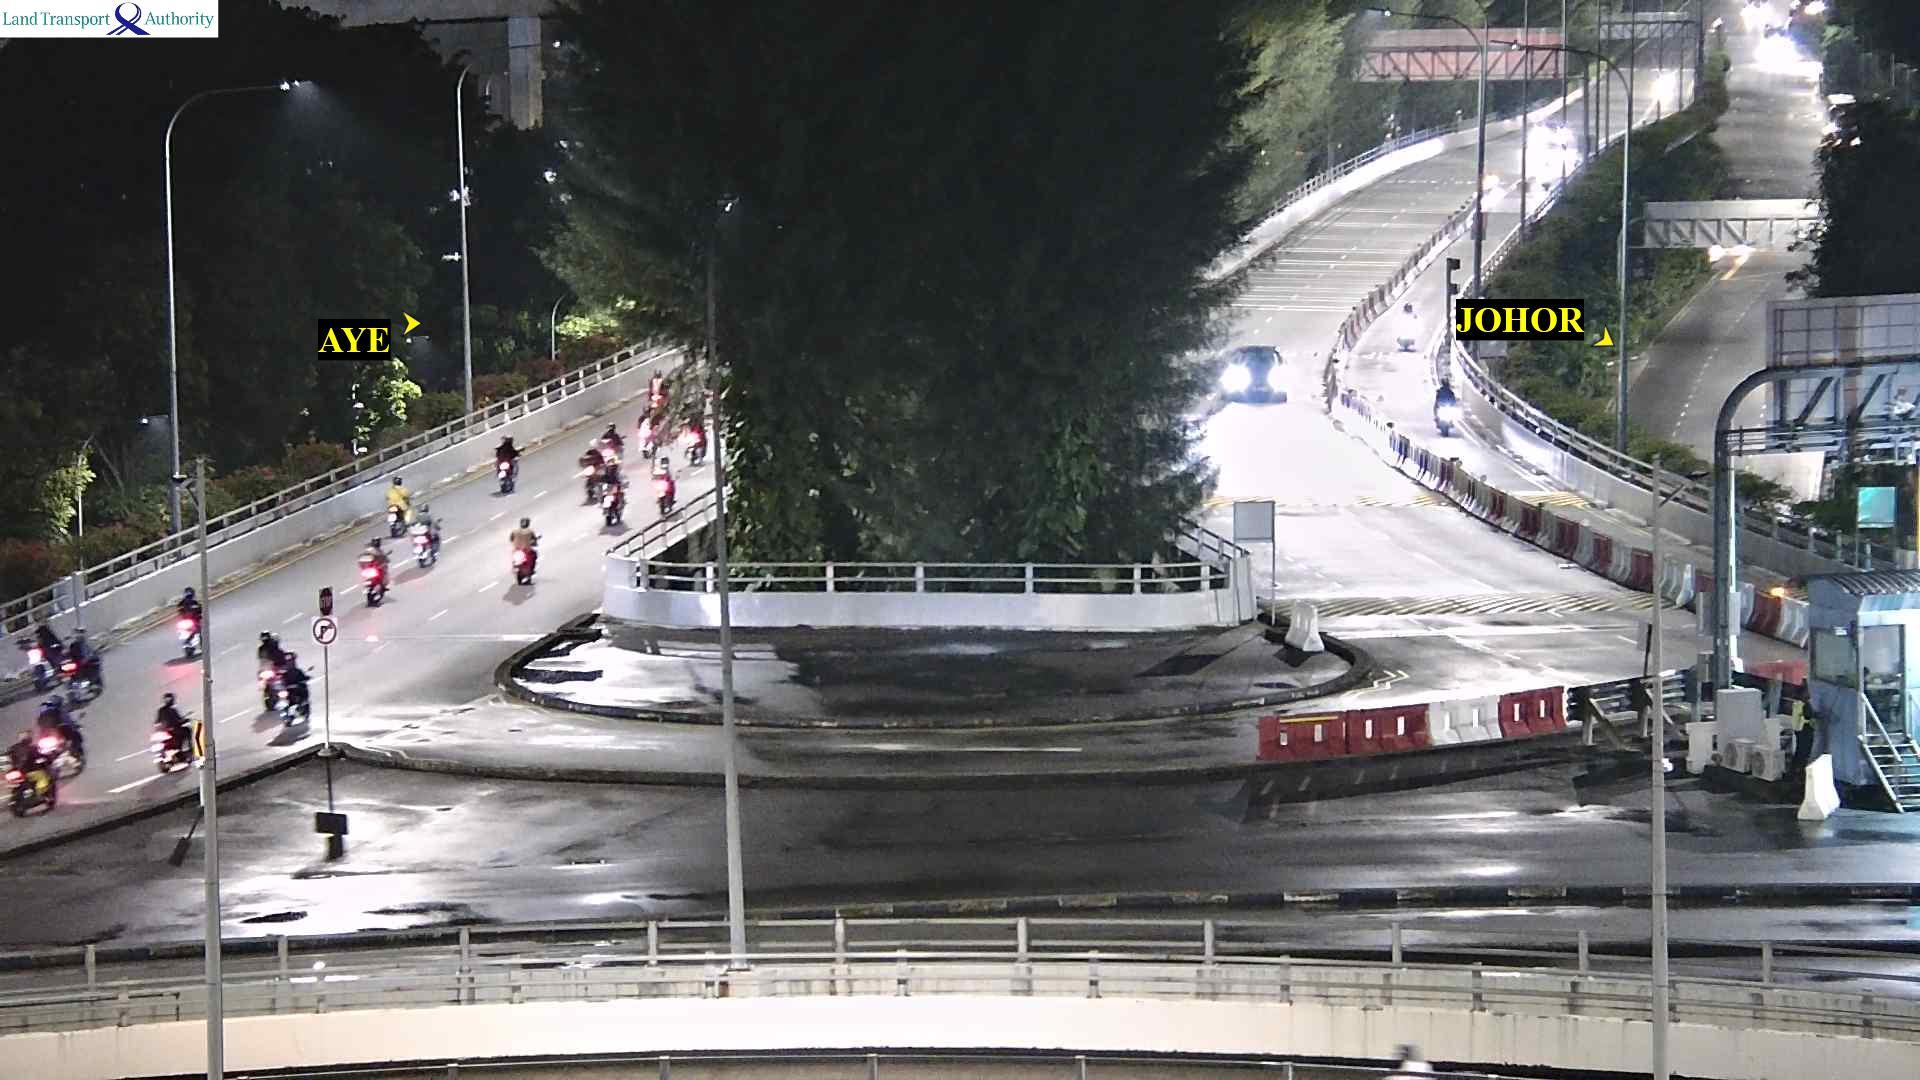vehicle-secondlink-johor: (1221, 335, 1287, 404)
vehicle-secondlink-singapore: (6, 731, 55, 818), (40, 698, 94, 767), (66, 625, 112, 692), (157, 687, 191, 766), (259, 628, 292, 703), (279, 653, 315, 720), (25, 622, 62, 687), (510, 518, 540, 588), (174, 586, 202, 656), (412, 501, 443, 562), (364, 536, 385, 604), (497, 433, 520, 489), (605, 470, 626, 522), (388, 475, 407, 532), (583, 439, 602, 492), (602, 421, 626, 462), (654, 469, 675, 513), (652, 365, 665, 404)
